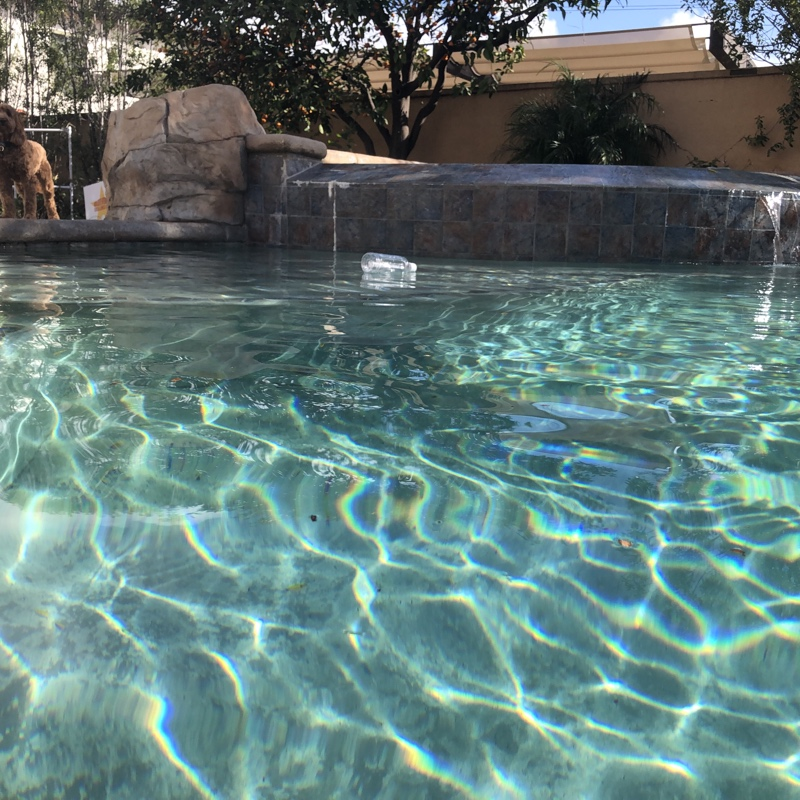Plastic Bottle: (359, 247, 417, 283)
